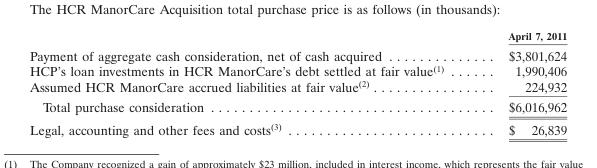table: (28, 29, 566, 137)
table column: (28, 29, 475, 137), (475, 29, 566, 137)
table column header: (28, 29, 566, 44)
table row: (28, 96, 566, 117), (28, 117, 566, 137), (28, 44, 566, 62), (28, 78, 566, 96), (28, 62, 566, 78), (28, 29, 566, 44)
